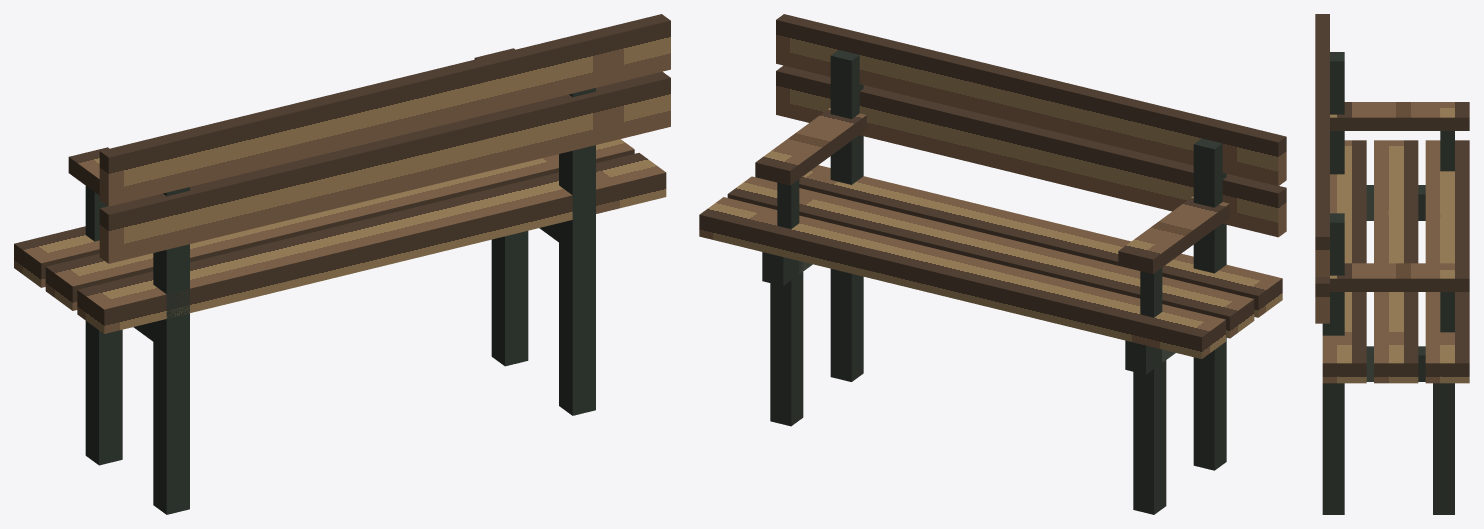
File: street_bench.gltf
3 views of the same model, side by side, from view 1: azimuth 30°, elevation 25°; view 2: azimuth 150°, elevation 25°; view 3: azimuth 270°, elevation 25° (orthographic). The views are drawn at different scales.
Parts seen in each view (by area): view 1: back_slat (×2), seat_slat (×3), rear_leg (×2), front_leg (×2), seat_support (×2), armrest, armrest_post; view 2: seat_slat (×3), back_slat (×2), rear_leg (×2), front_leg (×2), armrest (×2), seat_support (×2), armrest_post (×2); view 3: seat_slat (×3), armrest (×2), rear_leg (×2), back_slat (×2), front_leg, armrest_post (×2), seat_support (×2).
Boxes of the visible parts, box(x1,y1,x2,y2) form: back_slat (×2): box(99, 14, 670, 263); seat_slat (×3): box(14, 139, 666, 333); rear_leg (×2): box(153, 88, 595, 514); front_leg (×2): box(85, 231, 528, 465); seat_support (×2): box(133, 215, 595, 351); armrest: box(68, 147, 109, 195); armrest_post: box(85, 186, 107, 241); seat_slat (×3): box(699, 165, 1282, 358); back_slat (×2): box(776, 14, 1286, 237); rear_leg (×2): box(830, 50, 1226, 470); front_leg (×2): box(770, 259, 1166, 514); armrest (×2): box(755, 107, 1229, 273); seat_support (×2): box(762, 252, 1175, 374); armrest_post (×2): box(777, 179, 1162, 317); seat_slat (×3): box(1322, 140, 1469, 383); armrest (×2): box(1330, 102, 1469, 291); rear_leg (×2): box(1322, 52, 1344, 514); back_slat (×2): box(1315, 14, 1329, 323); front_leg: box(1433, 383, 1454, 514); armrest_post (×2): box(1440, 131, 1454, 332); seat_support (×2): box(1366, 185, 1425, 381).
Bounding box in the file's own units: 2.25 × 1.44 × 0.6562.
2 materials, 2 textured.
